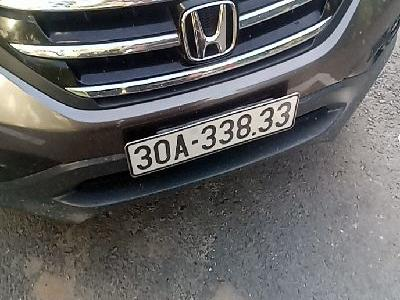car: (125, 93, 300, 181)
